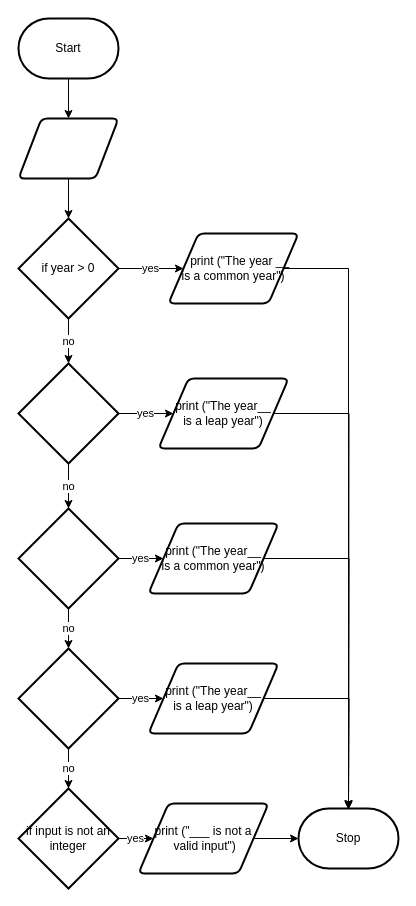
The diagram is 416 pixels wide and 906 high, and some of its shapes have lost their labels. Each missing label, with the centre of its shape:
Get user input (year): point (68, 148)
if year % 100 == 0: point (68, 558)
if year % 4 == 0: point (68, 413)
if year % 400 == 0: point (68, 698)
